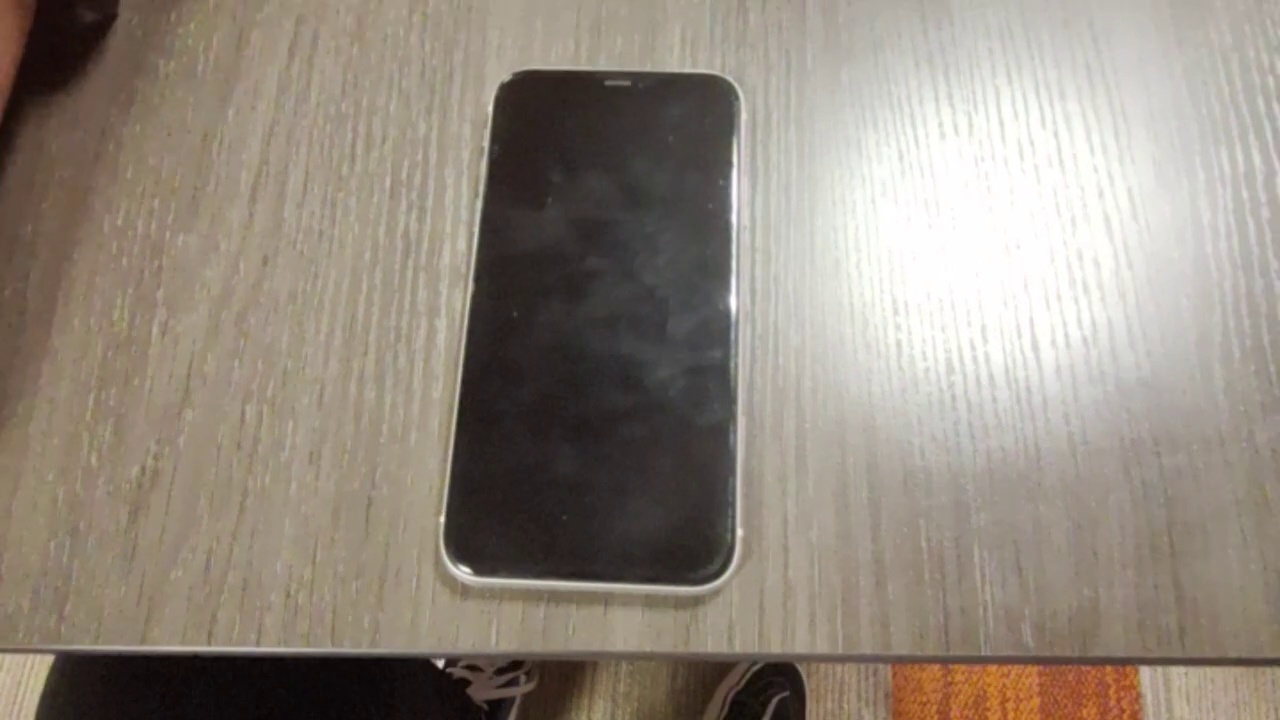celular: (440, 67, 748, 598)
